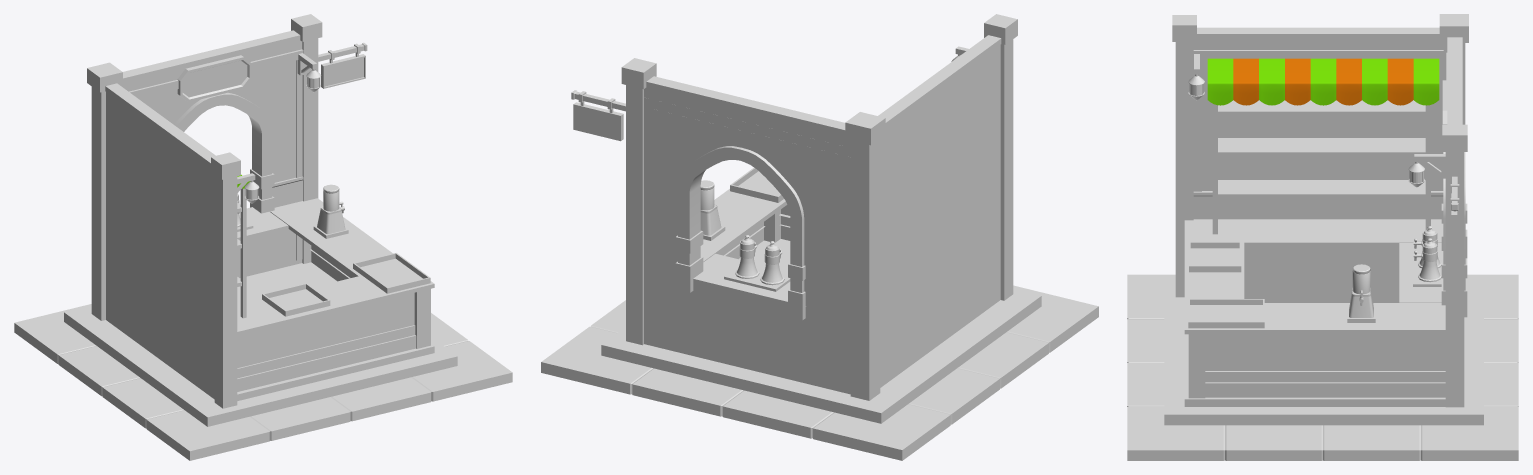
Rendered from Sweets-juice.fbx.
The picture shows the model from 3 angles, left to right: view 1: azimuth 30°, elevation 25°; view 2: azimuth 150°, elevation 25°; view 3: azimuth 270°, elevation 25°; orthographic projection. The views are drawn at different scales.
Visible parts, largest first — view 1: Cube, Cube.028, Cube.007, Cube.001, Cube.005, Cube.018, Cube.017, Cube.010, Cube.002, Cube.016, Cube.013, Cube.019 (+11 smaller); view 2: Cube, Cube.028, Cube.007, Cube.017, Cube.002, Cube.010, Cube.001, Cube.018, Cube.019, Cube.021, Cube.034, Cube.011 (+4 smaller); view 3: Cube.028, Cube, Cube.001, Cube.007, Cube.009, Cube.005, Cube.033, Cube.031, Cube.010, Cube.018, Cube.003, Cube.020 (+18 smaller).
Part boxes in pixels (x1,y1,x2,y2): Cube: [106, 40, 434, 400]; Cube.028: [14, 304, 512, 460]; Cube.007: [64, 305, 457, 426]; Cube.001: [237, 198, 434, 335]; Cube.005: [237, 246, 414, 368]; Cube.018: [211, 152, 240, 408]; Cube.017: [87, 62, 122, 320]; Cube.010: [291, 14, 322, 263]; Cube.002: [174, 92, 274, 213]; Cube.016: [237, 249, 416, 391]; Cube.013: [177, 55, 251, 102]; Cube.019: [123, 30, 300, 83]; Cube: [644, 45, 1000, 394]; Cube.028: [541, 285, 1098, 460]; Cube.007: [601, 289, 1041, 423]; Cube.017: [845, 112, 885, 400]; Cube.002: [675, 146, 805, 320]; Cube.010: [621, 58, 656, 345]; Cube.001: [693, 189, 806, 310]; Cube.018: [984, 14, 1017, 300]; Cube.019: [646, 76, 845, 135]; Cube.021: [878, 35, 1001, 128]; Cube.034: [571, 90, 625, 141]; Cube.011: [730, 167, 783, 202]; Cube.028: [1127, 274, 1518, 460]; Cube: [1184, 39, 1445, 406]; Cube.001: [1184, 219, 1445, 334]; Cube.007: [1164, 278, 1483, 425]; Cube.009: [1207, 58, 1439, 105]; Cube.005: [1205, 334, 1445, 370]; Cube.033: [1244, 247, 1399, 302]; Cube.031: [1193, 191, 1443, 219]; Cube.010: [1442, 124, 1467, 407]; Cube.018: [1172, 15, 1196, 297]; Cube.003: [1218, 138, 1425, 156]; Cube.020: [1218, 180, 1425, 198].
Bounding box in the file's own units: 680 × 540 × 641.
